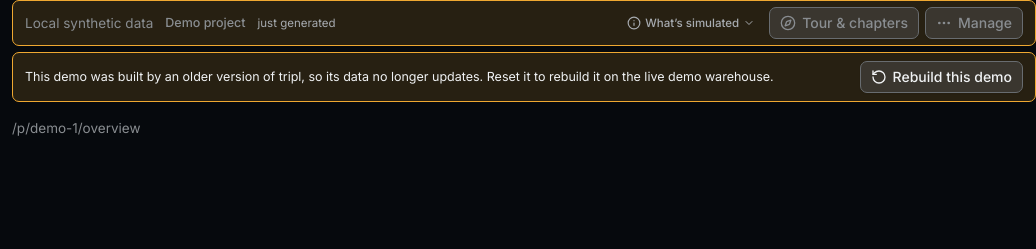
Scenario: DemoBanner › labels the demo project as local synthetic data, its data version under What’s simulated
Check: the text "Demo project" is shown, box x1=165 y1=14 x2=246 y2=32
Click the button "What’s simulated": {"x": 691, "y": 23} x1=619 y1=11 x2=763 y2=35
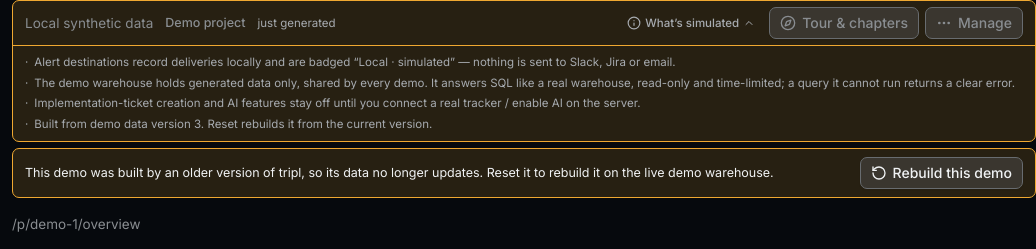
Check: the text "Built from demo data version 3. Reset rebuilds it from the current version." is shown, box x1=34 y1=116 x2=432 y2=133
